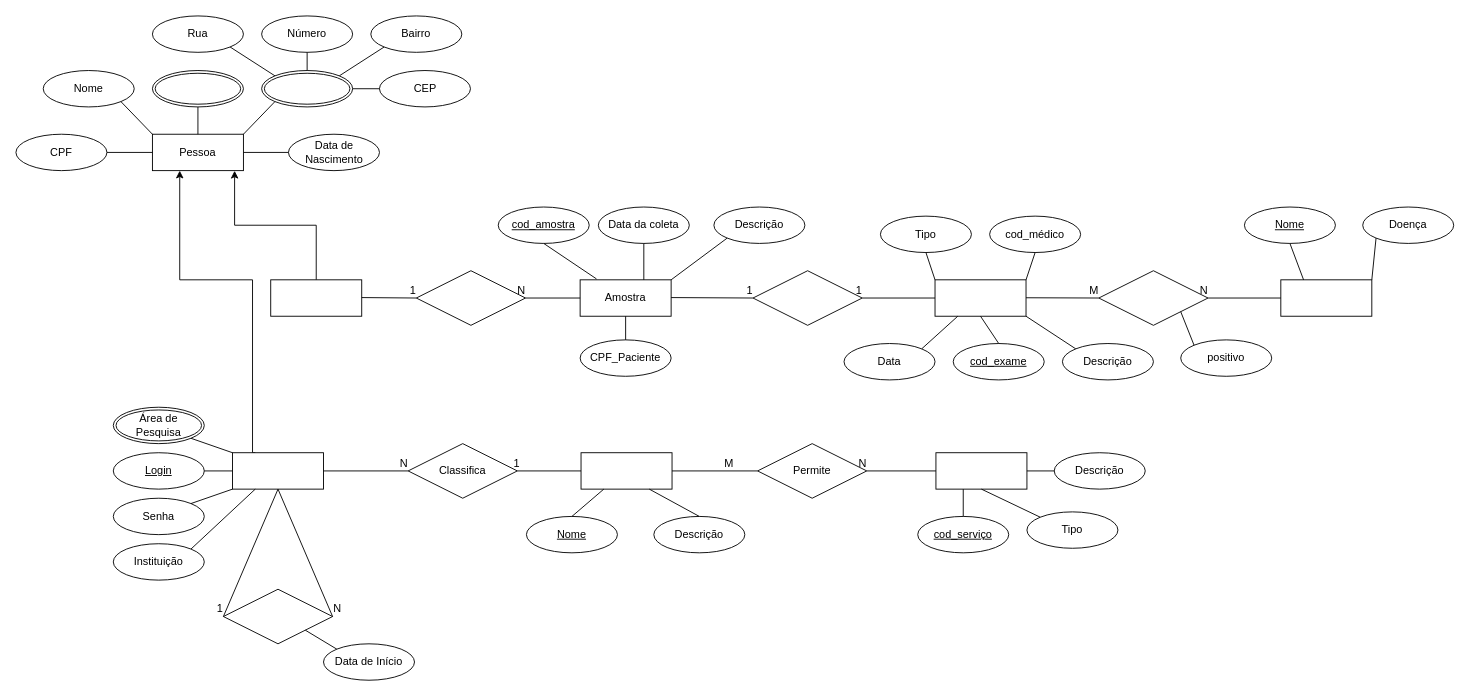
Image size: 1470x696. Some labels were removed from this diagram. Here are the shapes that lost their labels. From the top down, the box of each, then its label:
(152, 70, 243, 107): Telefone
(261, 70, 353, 107): Endereço
(270, 279, 362, 316): Paciente
(415, 270, 526, 325): Coleta
(752, 270, 862, 325): Examina
(934, 279, 1026, 316): Exame
(1098, 270, 1208, 325): Detecta
(1280, 279, 1372, 316): Vírus
(232, 452, 324, 489): Usuário
(580, 452, 672, 489): Perfil
(935, 452, 1027, 489): Serviço
(222, 588, 333, 644): Tutela
